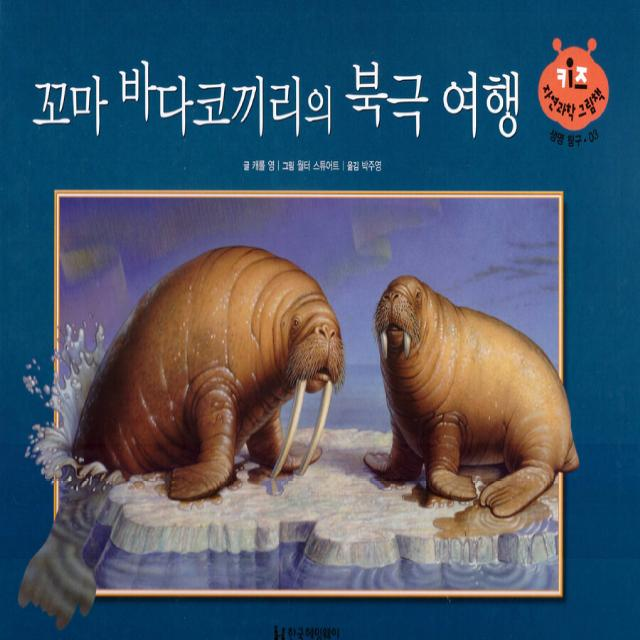walrus: (74, 233, 352, 490), (371, 255, 562, 541)
